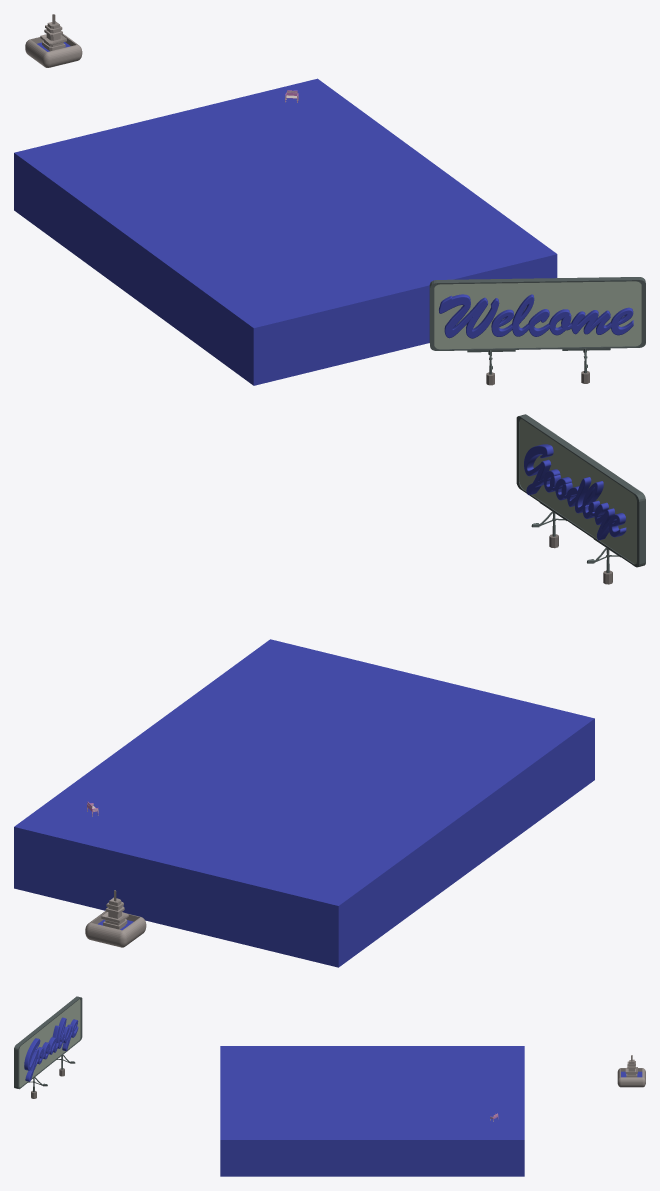
File: HomeBoundExtras.glb
The picture shows the model from 3 angles, top to bottom: view 1: azimuth 30°, elevation 25°; view 2: azimuth 150°, elevation 25°; view 3: azimuth 270°, elevation 25°; orthographic projection. The views are drawn at different scales.
Visible parts, largest first — view 1: water, Cube.038, Text.006, Roundcube.040; view 2: water, Cube.038, Text.007, Roundcube.040; view 3: water, Cube.038, Text.007, Roundcube.040.
Boxes of the visible parts, <box> form: water: <box>14,78,557,385</box>; Cube.038: <box>429,277,645,350</box>; Text.006: <box>439,294,633,338</box>; Roundcube.040: <box>25,14,82,67</box>; water: <box>14,639,594,967</box>; Cube.038: <box>516,414,645,567</box>; Text.007: <box>524,444,626,540</box>; Roundcube.040: <box>85,890,146,947</box>; water: <box>220,1046,524,1176</box>; Cube.038: <box>14,996,82,1089</box>; Text.007: <box>24,1017,78,1081</box>; Roundcube.040: <box>617,1055,645,1087</box>.
Size of the model in its own units: 11.03 by 5.86 by 31.31.
